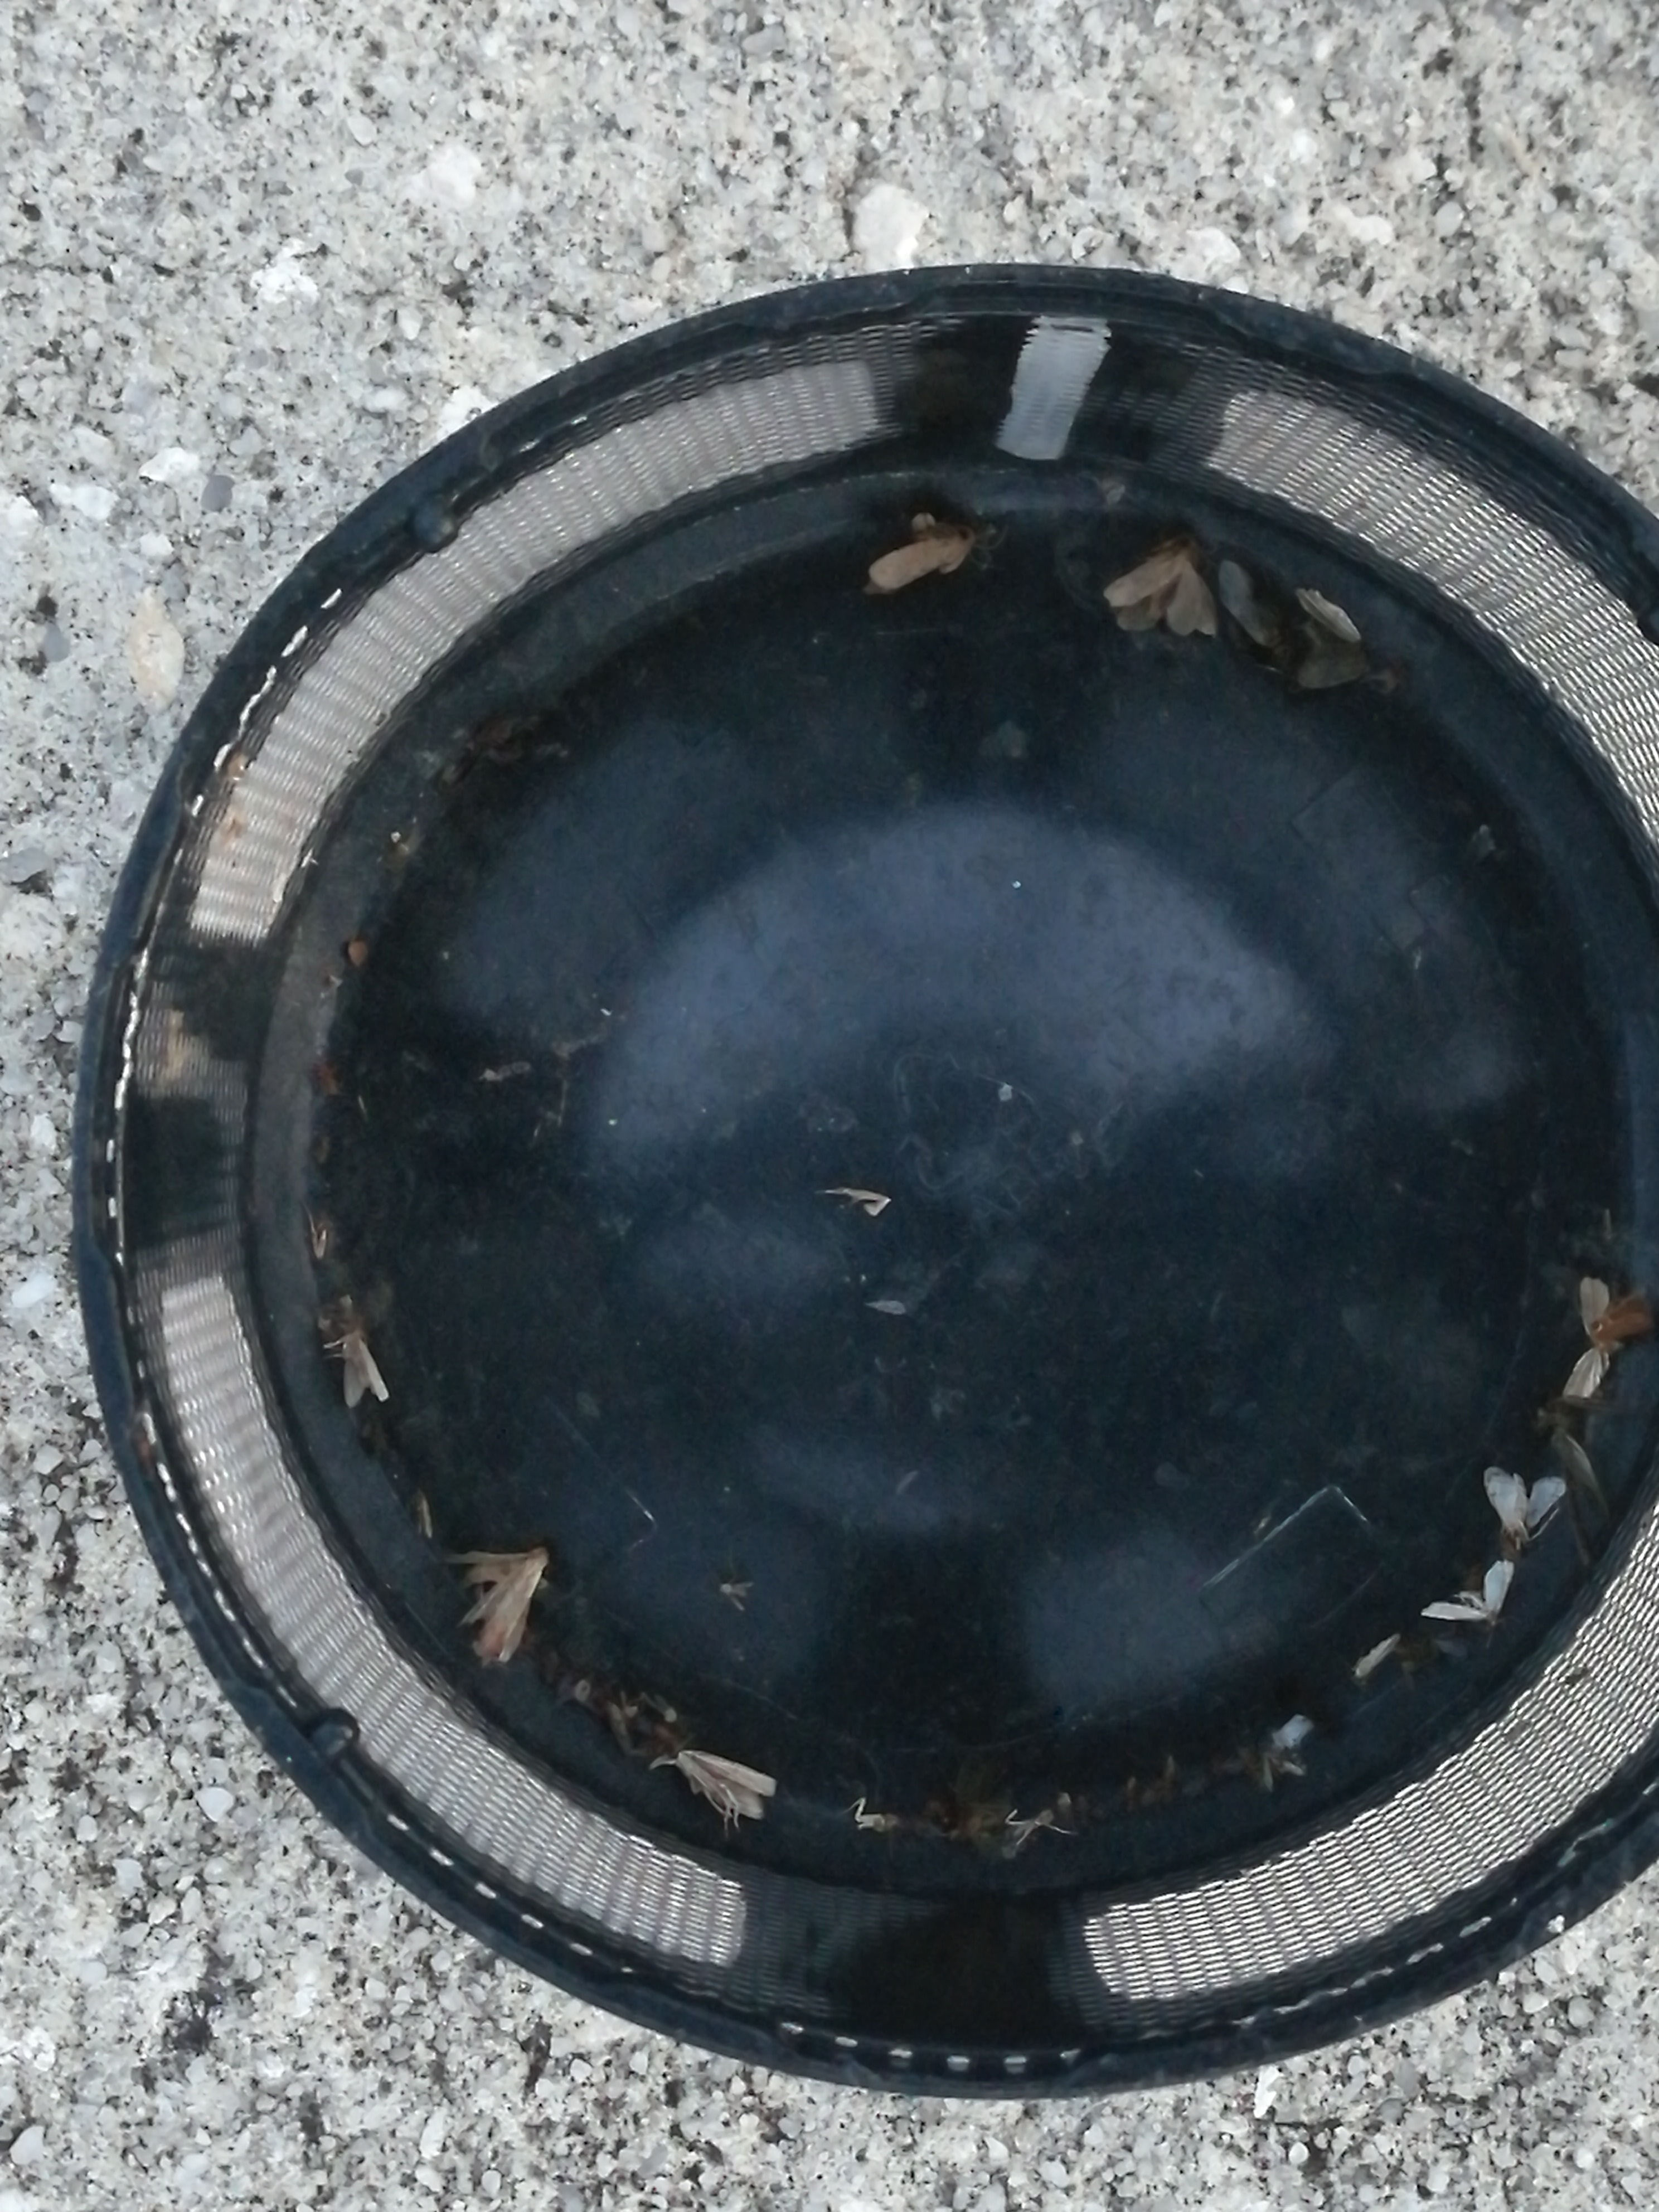mosquito: (680, 1752, 769, 1820)
moth: (1103, 535, 1218, 636), (458, 1547, 549, 1658), (1567, 1280, 1652, 1393), (873, 526, 974, 582), (1485, 1470, 1565, 1538), (1429, 1561, 1518, 1618), (342, 1336, 389, 1402)
